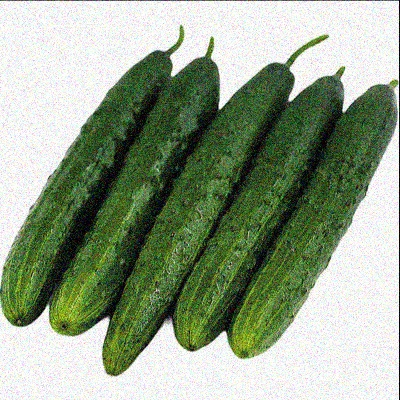cucumber: (106, 51, 293, 371), (188, 64, 346, 352), (60, 48, 217, 331), (8, 43, 164, 323), (242, 93, 389, 358)
